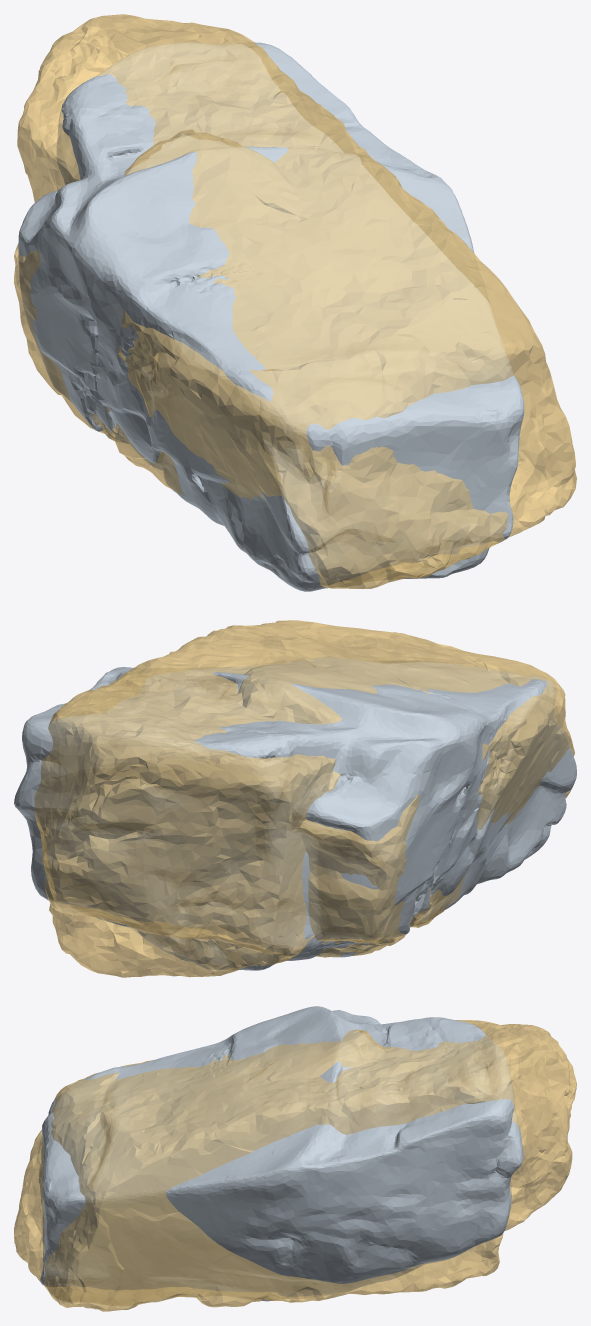
The picture shows the model from 3 angles, top to bottom: view 1: azimuth 30°, elevation 25°; view 2: azimuth 150°, elevation 25°; view 3: azimuth 270°, elevation 25°; orthographic projection. The views are drawn at different scales.
Visible parts, largest first — view 1: imagination, truth; view 2: imagination, truth; view 3: imagination, truth.
Boxes of the visible parts, x1,y1,x2,y2 form: imagination: (18, 42, 524, 591); truth: (14, 14, 576, 588); imagination: (14, 657, 576, 970); truth: (34, 620, 574, 977); imagination: (39, 1006, 523, 1305); truth: (14, 1020, 576, 1311).
Size of the model in its own units: 0.7212 by 0.6119 by 1.25.
